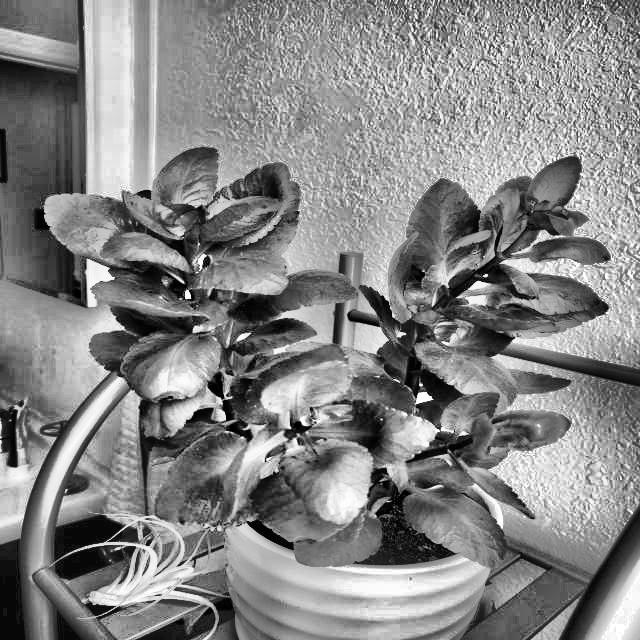plants: (44, 140, 608, 640), (84, 288, 280, 452), (452, 249, 606, 377)
